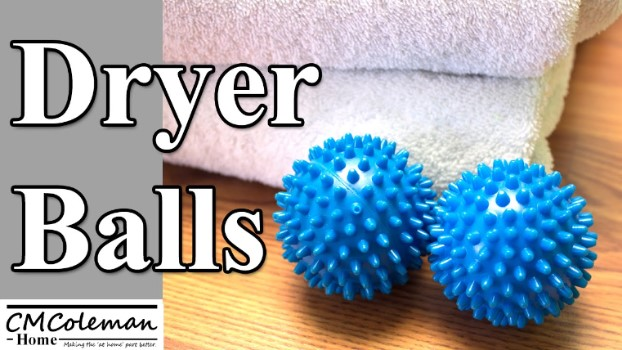blue ball: (434, 157, 599, 332), (271, 134, 437, 303)
